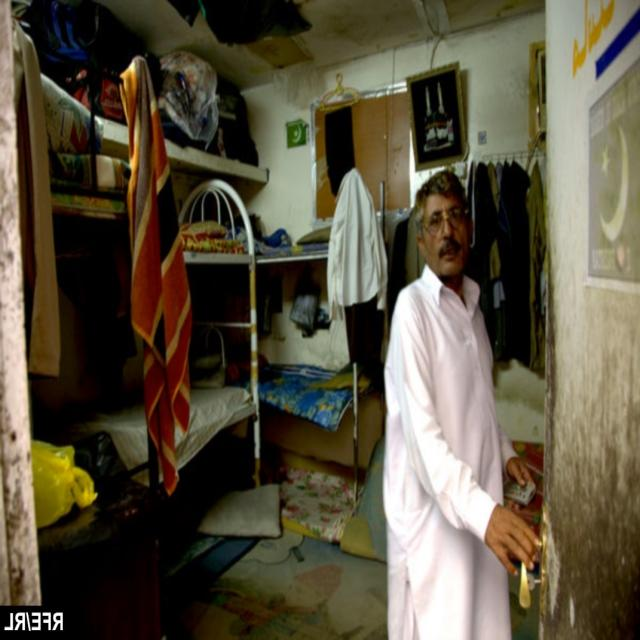adult: (382, 169, 542, 640)
